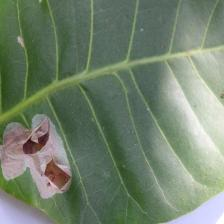leaf miner: (0, 0, 223, 224), (0, 113, 72, 199)
